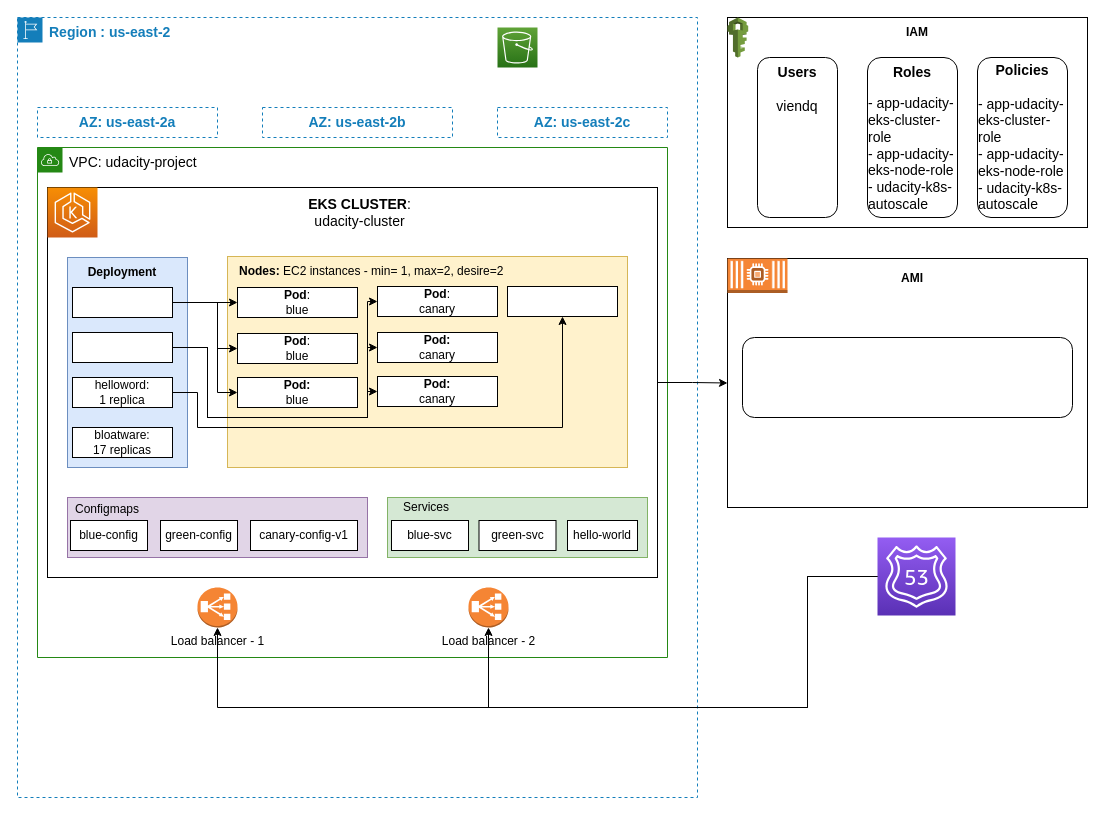
Image size: 1105x815. Some labels were removed from this diagram. The centre of each missing label's shape, as x and y in pixels:
blue: 3 replicas: [122,302]
canary: 3 replicas: [122,347]
From catalogs amazon-eks-node-v1.27: [907,377]
Hosted Zone : udacityproject CNAME record : udacityproject: [916,576]
Pod: hello-world: [562,301]
S3 bucket : udacity-tf-viendq-3: [517,47]
